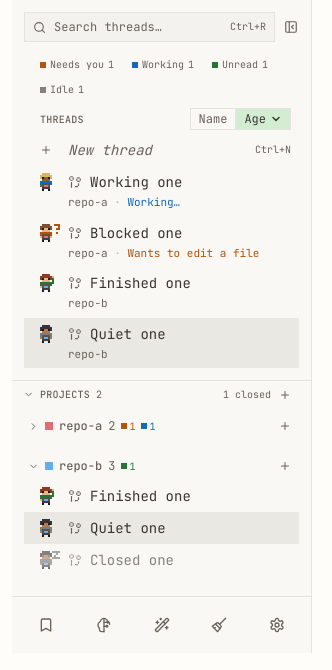
Test case: Sidebar attention triage › counts a closed thread under no chip, even when it is still flagged unread
The image size is (332, 670).
Expected: the element named "Filter threads" shows "Unread 1", left=24, top=54, right=299, bottom=100
Expected: the element titled "1 unread" is shown, left=121, top=458, right=135, bottom=474
Right-click the button "Closed one" at (162, 560), box left=24, top=544, right=299, bottom=576
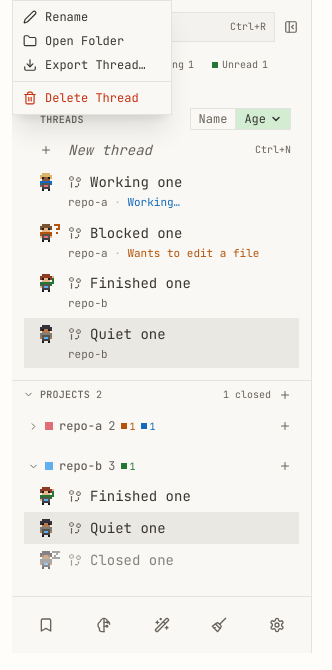
Now the menu is shown, box left=12, top=0, right=172, bottom=115
